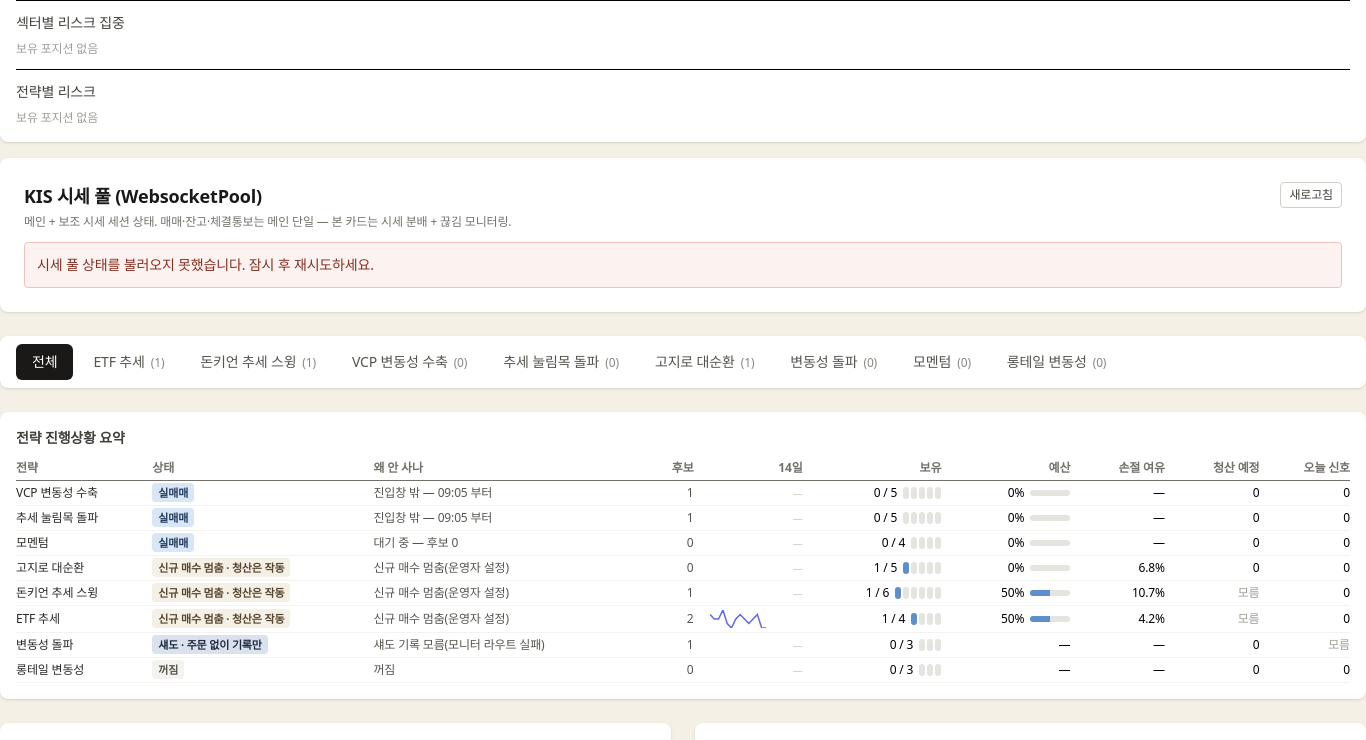
Test: Dashboard — 전략 진행상황(cycle414) › 모니터 라우트가 실패해도(success=false) 패널은 status 데이터로 그린다
This screenshot has width=1366, height=740.
(page scrolled)
Click the button "ETF 추세(1)". click: (129, 362)
box: [78,344,180,380]
(page scrolled)
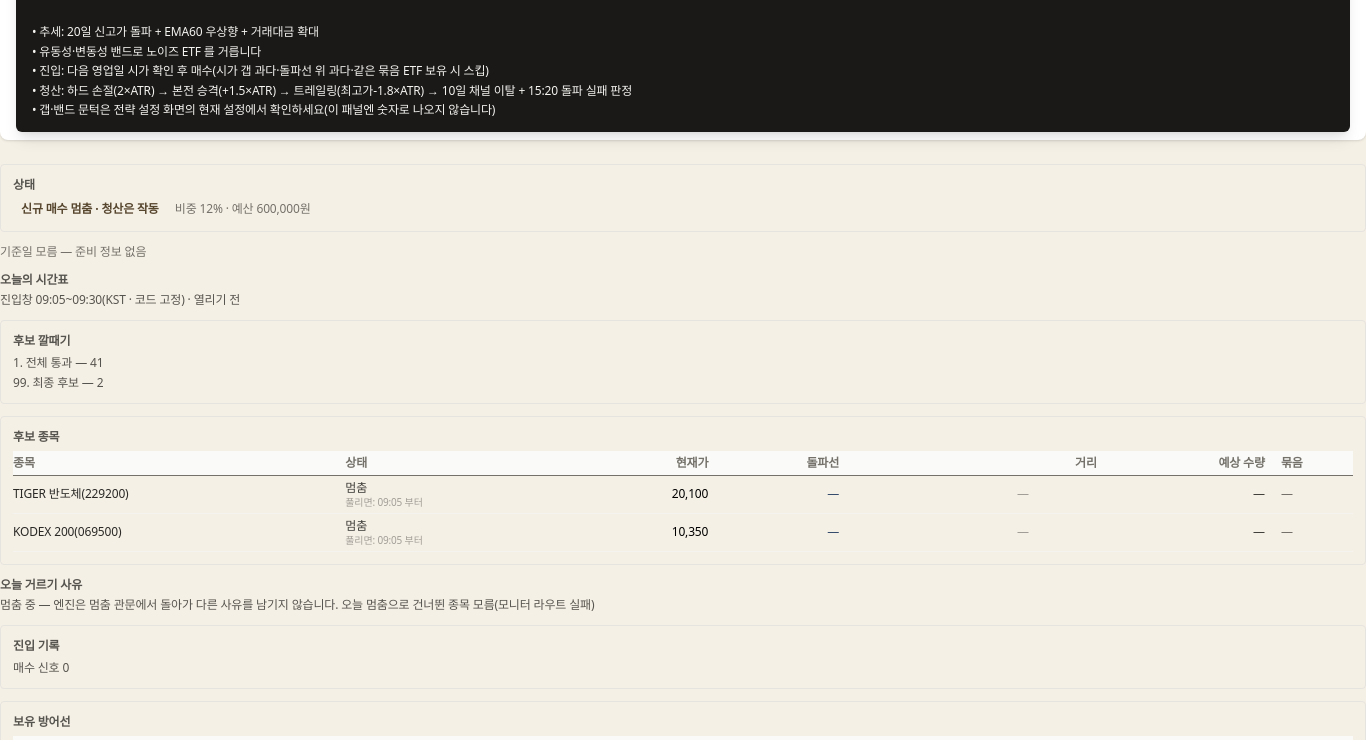
expect the text with test id "etf_trend-monitor-badge" shows "멈춤": met, box [21,200,159,216]
expect the text with test id "etf_trend-monitor-funnel-row-1" shows "41": met, box [90,354,103,370]
